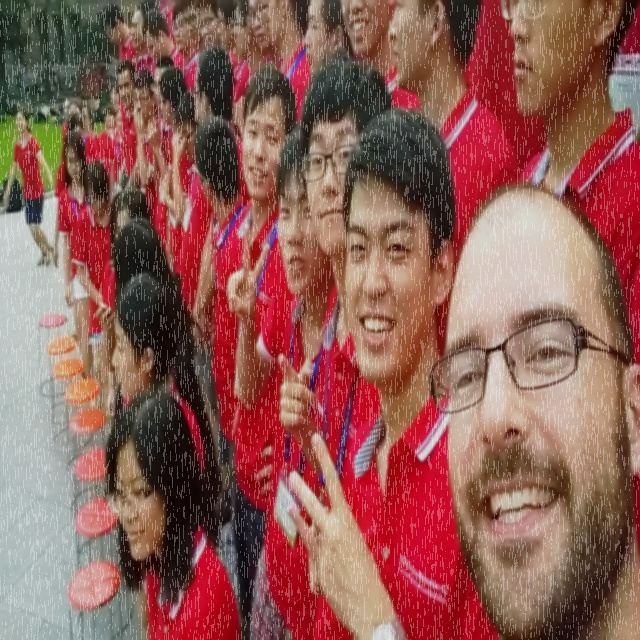pessoa: (286, 106, 501, 639), (428, 177, 640, 639), (276, 54, 396, 639), (226, 120, 336, 639), (498, 0, 640, 363), (229, 61, 300, 639), (102, 390, 244, 638), (264, 123, 336, 583), (190, 43, 256, 540), (192, 116, 252, 546), (111, 270, 210, 500), (172, 92, 216, 470), (95, 185, 153, 372), (72, 156, 112, 424), (56, 128, 94, 382), (338, 0, 421, 116), (1, 105, 56, 266), (156, 66, 188, 292), (229, 0, 276, 138), (54, 110, 94, 272), (146, 54, 177, 235), (130, 66, 161, 228), (466, 0, 514, 102), (102, 0, 174, 61), (213, 0, 253, 106), (484, 102, 548, 168), (302, 0, 354, 81), (118, 215, 171, 276), (116, 58, 137, 192), (172, 268, 196, 371), (66, 98, 100, 160), (98, 103, 119, 200), (77, 103, 105, 165), (231, 62, 251, 137), (102, 194, 118, 276), (196, 0, 222, 49), (114, 106, 128, 182), (132, 580, 150, 639), (172, 61, 196, 92), (27, 62, 43, 103), (49, 57, 60, 104), (60, 94, 70, 142), (113, 384, 125, 419), (22, 62, 32, 101), (182, 373, 200, 393), (86, 96, 99, 122), (108, 82, 120, 110), (270, 44, 284, 68), (132, 61, 155, 74), (115, 276, 128, 295), (251, 62, 270, 73)
